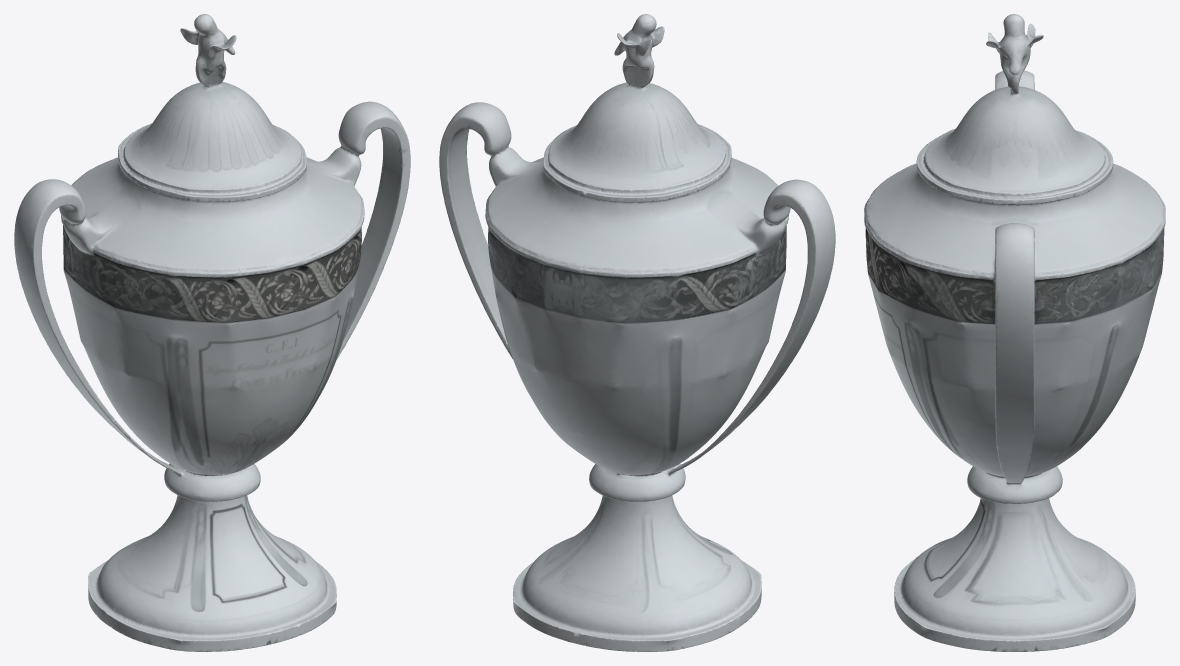
File: cdf.glb
3 views of the same model, side by side, from view 1: azimuth 30°, elevation 25°; view 2: azimuth 150°, elevation 25°; view 3: azimuth 270°, elevation 25° (orthographic).
Visible parts, largest first — view 1: mesh_node; view 2: mesh_node; view 3: mesh_node.
Boxes of the visible parts, box(x1,y1,x2,y2) form: mesh_node: box(14, 14, 410, 651); mesh_node: box(439, 14, 835, 651); mesh_node: box(864, 14, 1165, 651).
Bounding box in the file's own units: 1.29 × 1.9 × 0.8915.
Materials: 1 (1 with a texture image).
